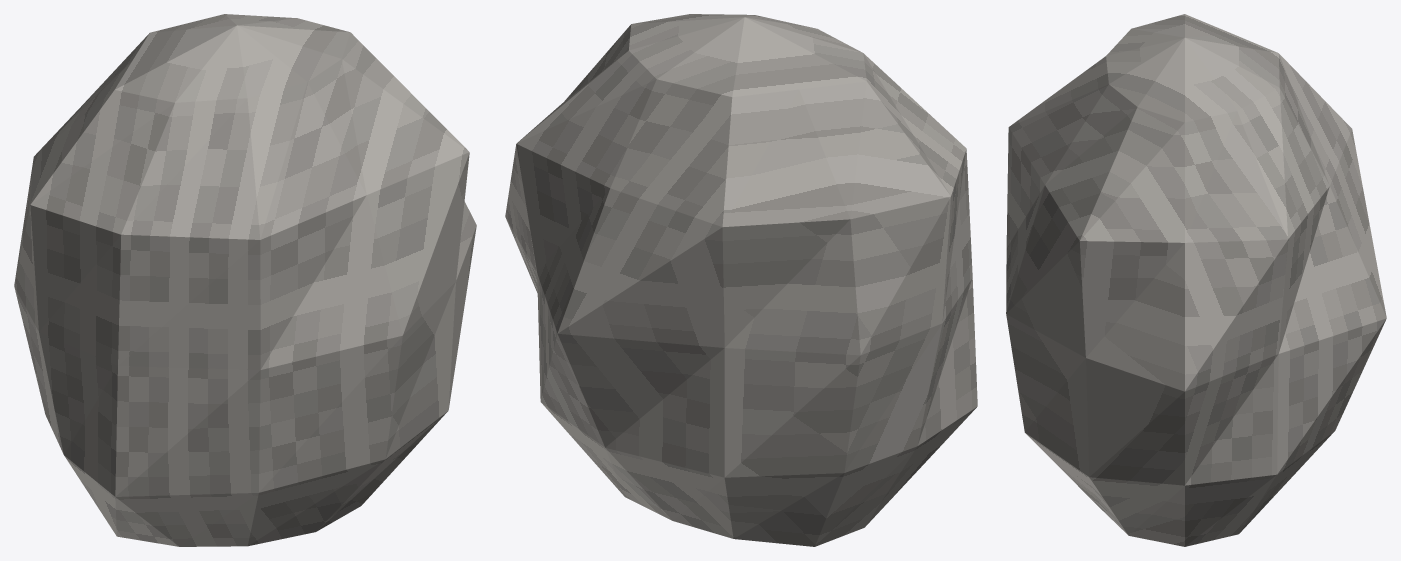
File: rock_b.glb
3 views of the same model, side by side, from view 1: azimuth 30°, elevation 25°; view 2: azimuth 150°, elevation 25°; view 3: azimuth 270°, elevation 25° (orthographic). The views are drawn at different scales.
Size of the model in its own units: 2.35 by 2.6 by 1.84.
1 material, 1 textured.
